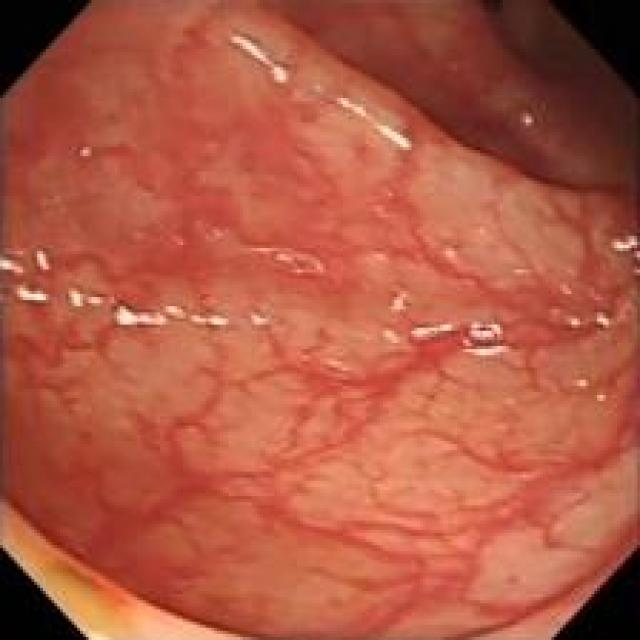specularity: (330, 87, 407, 150), (229, 28, 289, 82), (242, 238, 313, 275), (457, 318, 513, 364), (163, 299, 232, 331), (106, 299, 168, 334), (62, 282, 113, 318), (604, 229, 637, 283), (403, 315, 459, 343), (7, 280, 54, 313), (588, 303, 619, 339), (377, 324, 411, 353), (33, 241, 54, 283), (243, 304, 278, 329), (549, 310, 584, 332), (75, 140, 98, 166), (392, 282, 408, 318), (568, 374, 598, 392), (514, 108, 537, 131), (588, 388, 612, 406)
